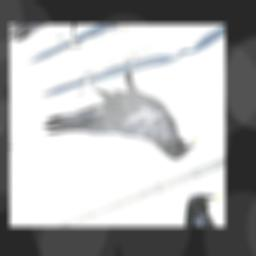Crow: (29, 41, 202, 203)
